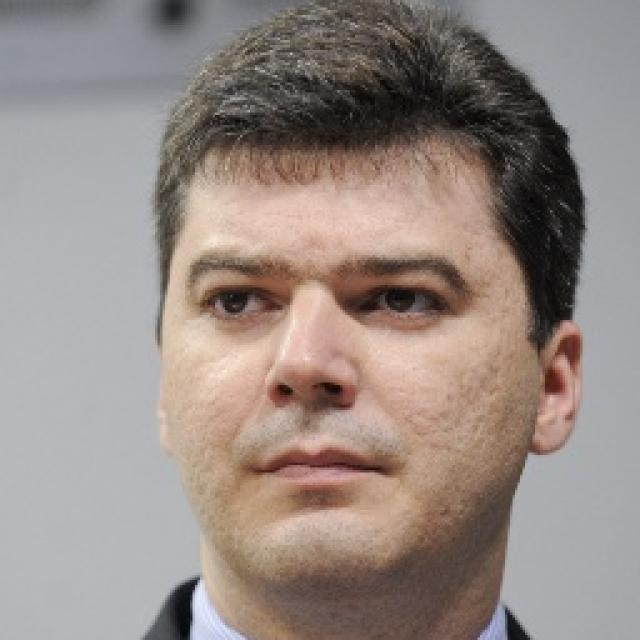earlobe: (529, 320, 583, 456)
